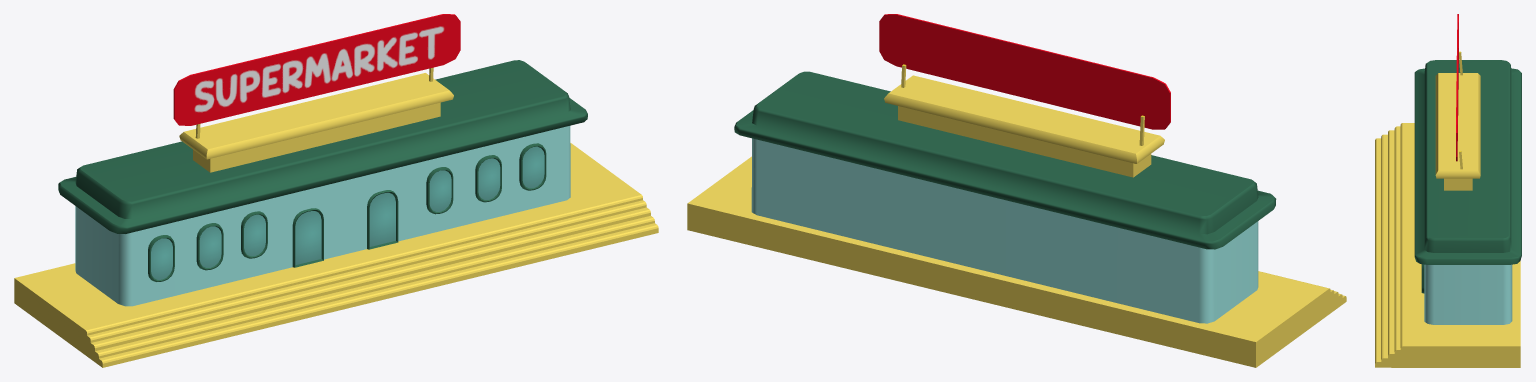
File: SM_Supermarket1.fbx
3 renders of one model, left to right at view 1: azimuth 30°, elevation 25°; view 2: azimuth 150°, elevation 25°; view 3: azimuth 270°, elevation 25°, orthographic. The views are drawn at different scales.
Parts seen in each view (by area): view 1: SM_Supermarket1; view 2: SM_Supermarket1; view 3: SM_Supermarket1.
Boxes of the visible parts, box(x1,y1,x2,y2) form: SM_Supermarket1: box(14, 14, 658, 367); SM_Supermarket1: box(687, 14, 1346, 367); SM_Supermarket1: box(1375, 14, 1521, 367).
Bounding box in the file's own units: 2889 × 1108 × 802.
